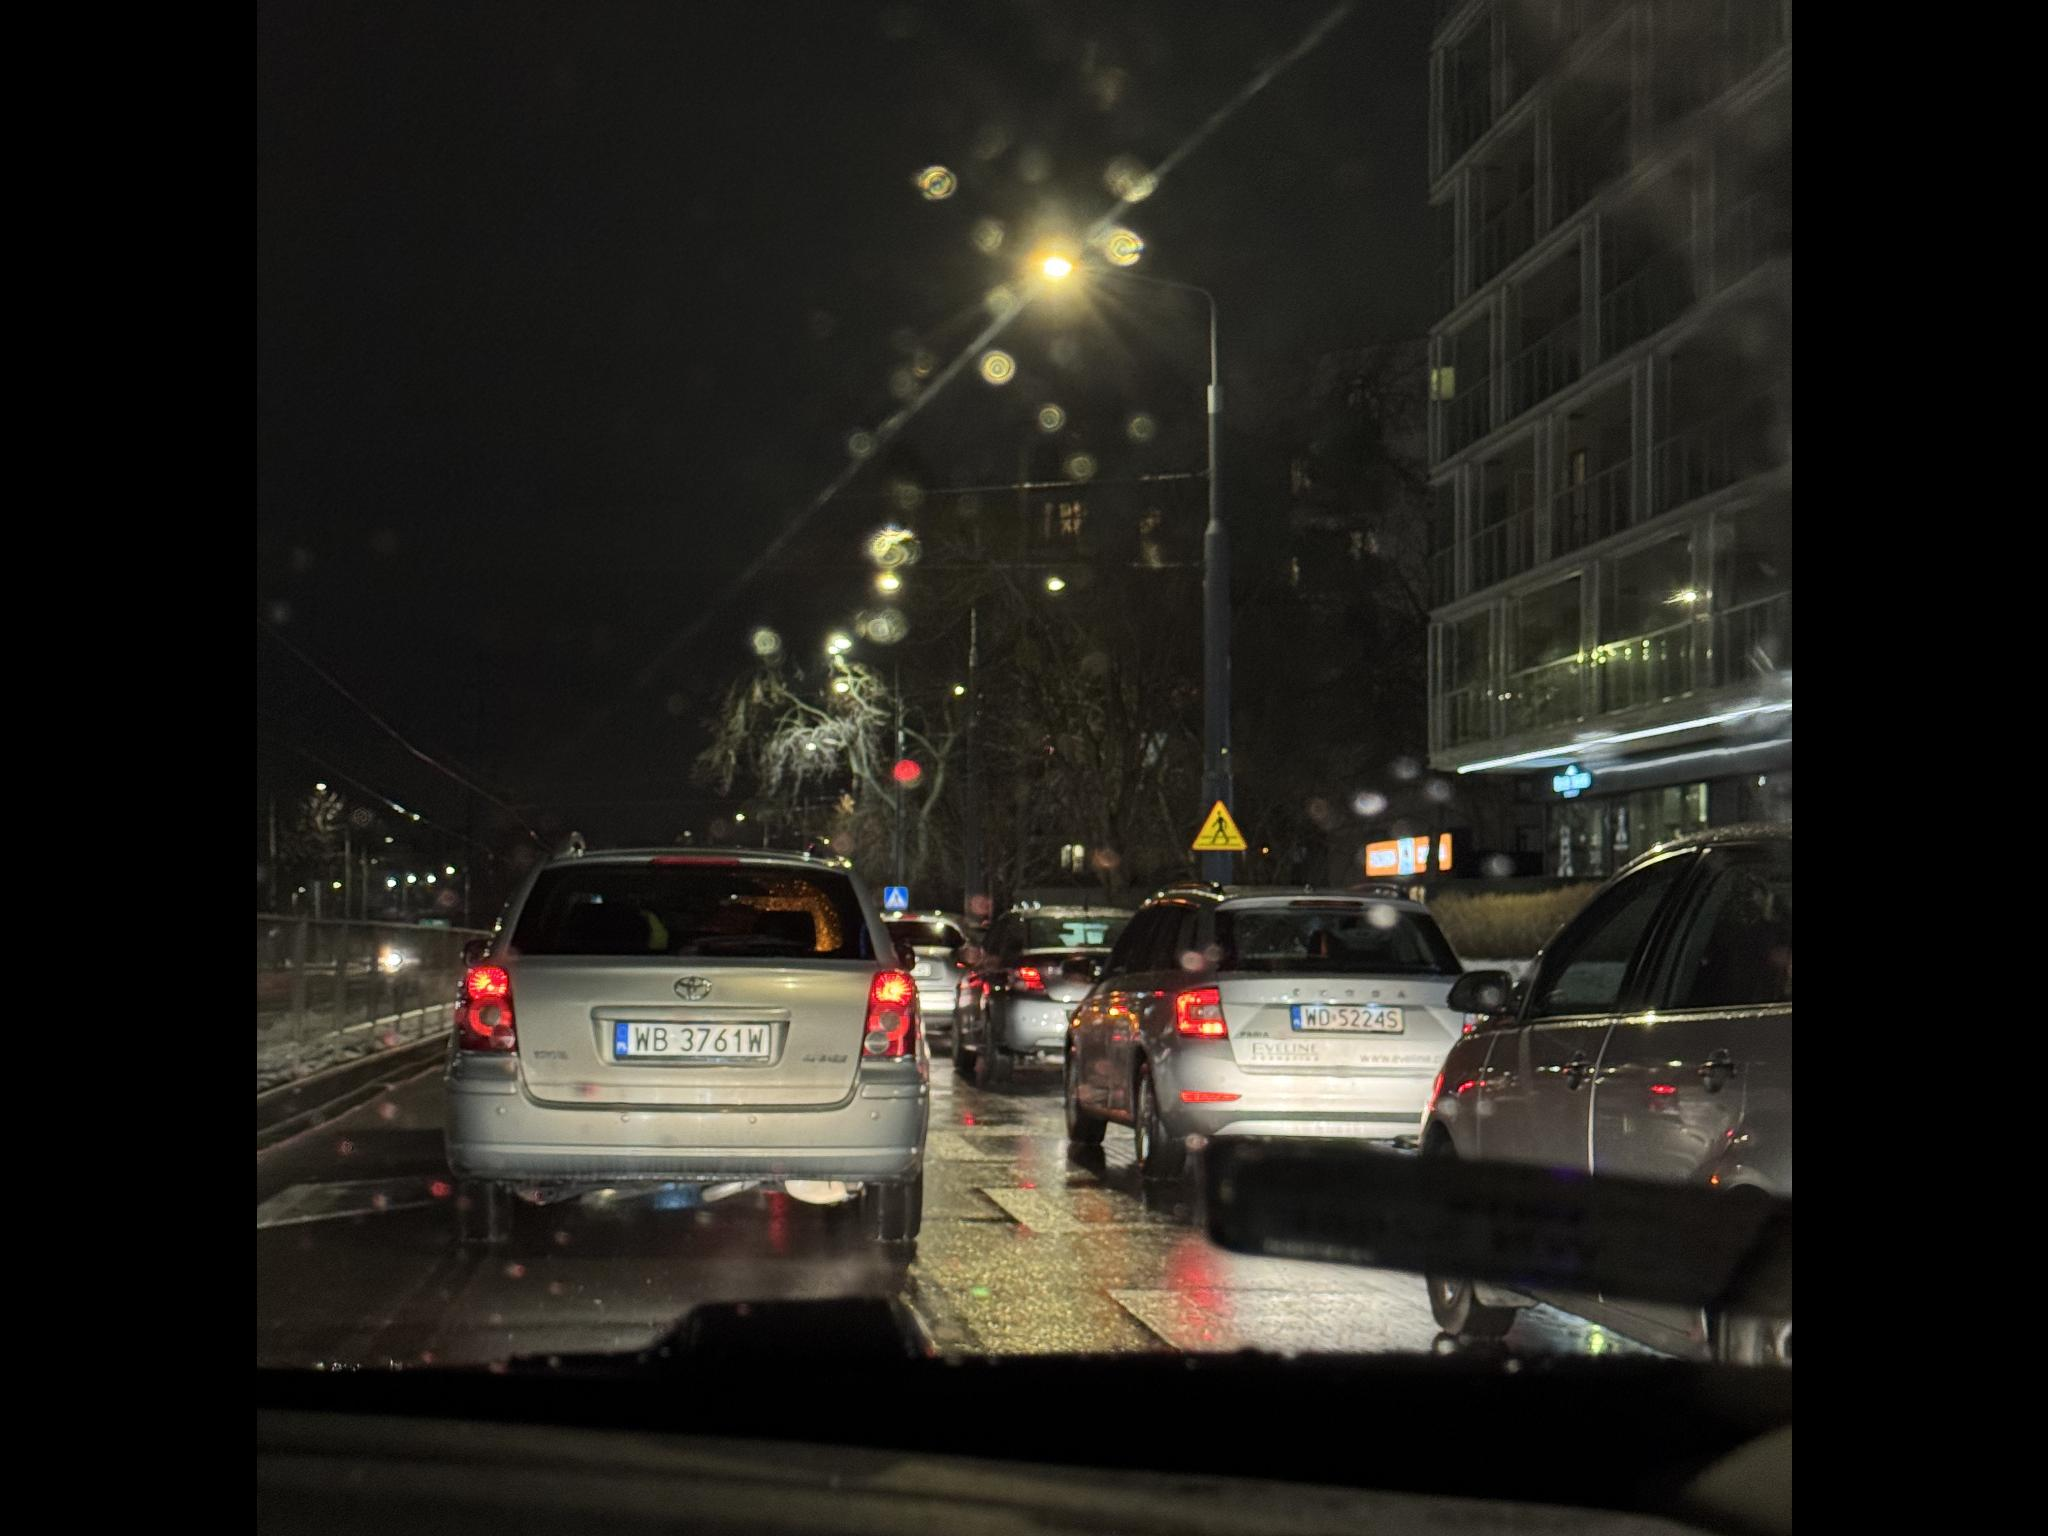information: (626, 371, 650, 395)
warning: (684, 679, 735, 736)
